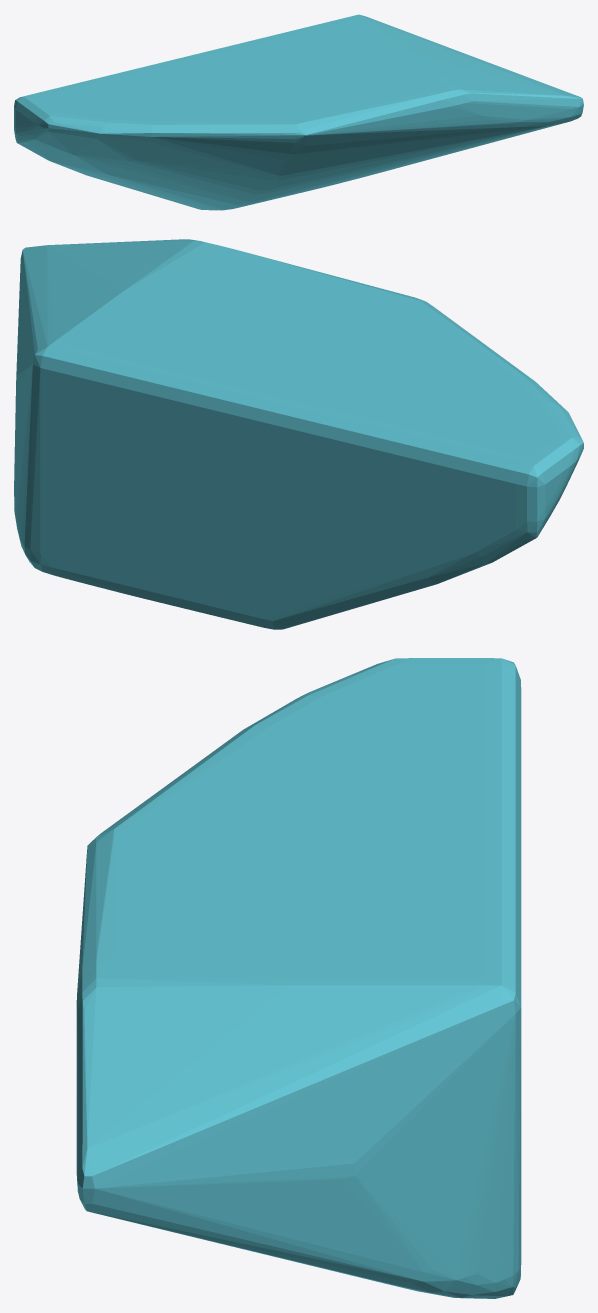
File: left_hip_yaw_link_part_2.obj
The picture shows the model from 3 angles, top to bottom: view 1: azimuth 30°, elevation 25°; view 2: azimuth 150°, elevation 25°; view 3: azimuth 270°, elevation 25°; orthographic projection. The views are drawn at different scales.
Bounding box in the file's own units: 0.0994 × 0.0321 × 0.0412.
